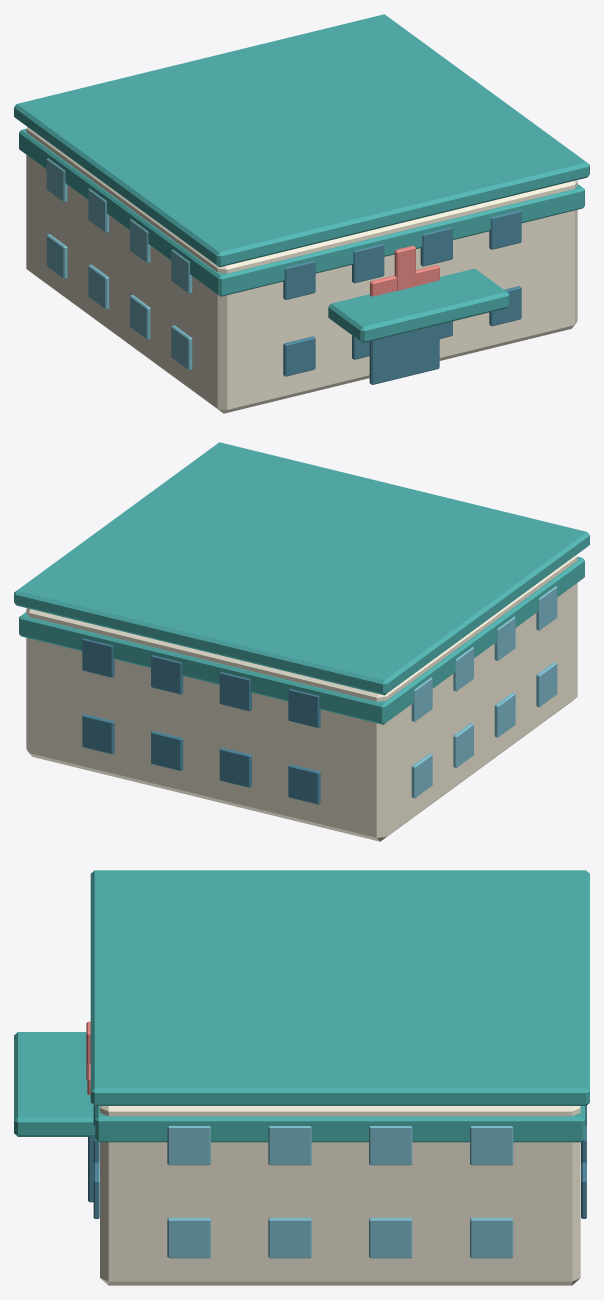
File: CIV_HEALTH_2x2_002.glb
3 views of the same model, one above another, from view 1: azimuth 30°, elevation 25°; view 2: azimuth 150°, elevation 25°; view 3: azimuth 270°, elevation 25° (orthographic). The views are drawn at different scales.
Parts seen in each view (by area): view 1: CIV_HEALTH_2x2_002_Visual; view 2: CIV_HEALTH_2x2_002_Visual; view 3: CIV_HEALTH_2x2_002_Visual.
Boxes of the visible parts, x1,y1,x2,y2 form: CIV_HEALTH_2x2_002_Visual: [14, 14, 589, 413]; CIV_HEALTH_2x2_002_Visual: [14, 442, 589, 841]; CIV_HEALTH_2x2_002_Visual: [14, 870, 589, 1285].
Size of what is drawn, in the model's own units: 3.37 by 1.45 by 3.72.
